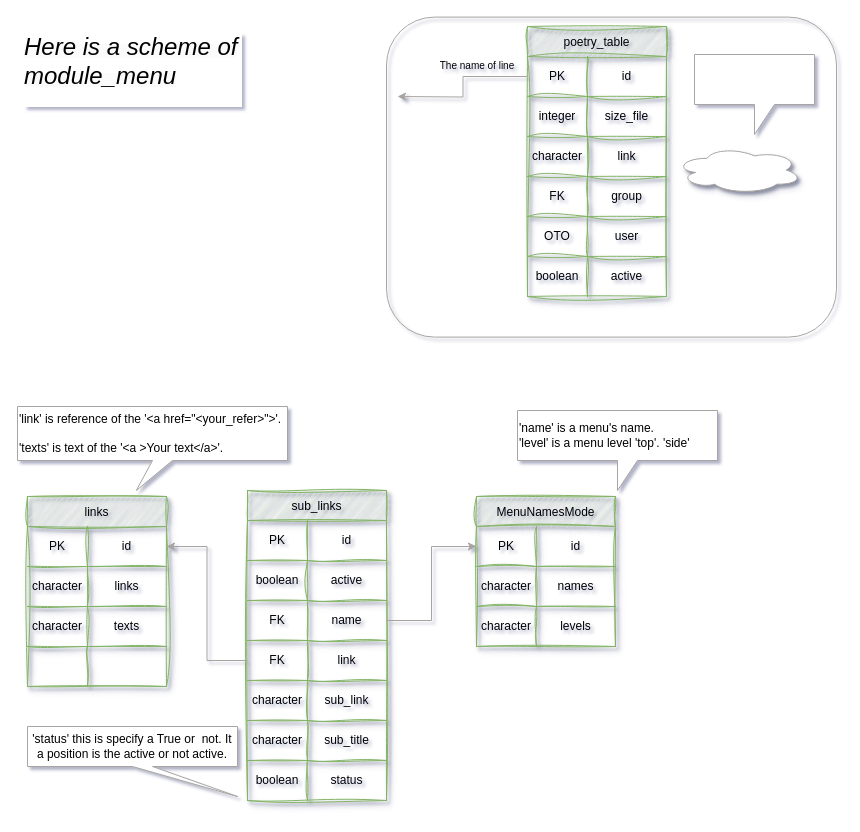
This 860x832 diagram has some shape labels left out. The centre of each missing label's shape, as x and y in pixels:
The ampty descript of teble: pixel 754 94
the poetry comment: pixel 739 171
